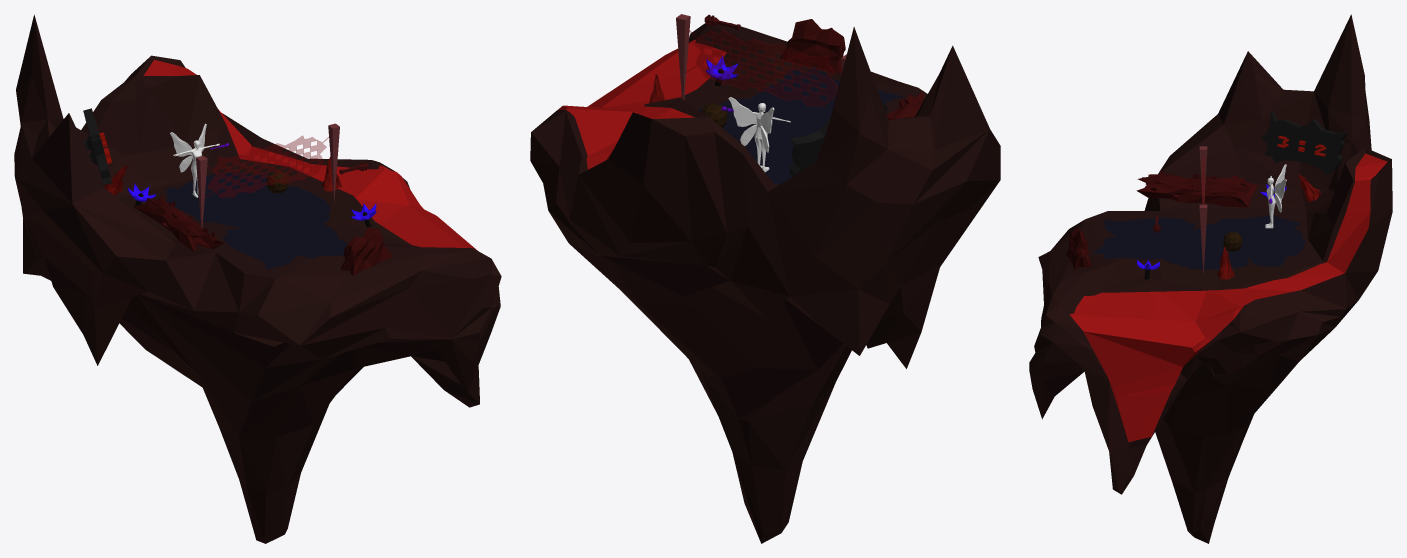
File: Underworld.fbx
3 views of the same model, side by side, from view 1: azimuth 30°, elevation 25°; view 2: azimuth 150°, elevation 25°; view 3: azimuth 270°, elevation 25° (orthographic). The views are drawn at different scales.
Visible parts, largest first — view 1: Ground, Field, Lava, Net, Bench, Rock, Scoreboard, NetStand; view 2: Ground, Lava, Field, Net, Rock, Scoreboard, Wings, NetStand, Bench; view 3: Ground, Lava, Field, Scoreboard, Bench, Rock, NetStand.
Boxes of the visible parts, left/top/right/bottom form: Ground: left=14, top=14, right=501, bottom=543; Field: left=166, top=172, right=348, bottom=269; Lava: left=143, top=60, right=477, bottom=250; Net: left=205, top=135, right=332, bottom=197; Bench: left=133, top=195, right=223, bottom=251; Rock: left=340, top=226, right=393, bottom=276; Scoreboard: left=83, top=108, right=112, bottom=185; NetStand: left=196, top=123, right=339, bottom=227; Ground: left=530, top=23, right=1000, bottom=543; Lava: left=558, top=39, right=726, bottom=169; Field: left=698, top=66, right=903, bottom=184; Net: left=685, top=28, right=841, bottom=106; Rock: left=780, top=19, right=845, bottom=72; Scoreboard: left=789, top=102, right=887, bottom=176; Wings: left=728, top=97, right=774, bottom=152; NetStand: left=676, top=14, right=846, bottom=99; Bench: left=887, top=91, right=924, bottom=120; Ground: left=1029, top=14, right=1392, bottom=543; Lava: left=1069, top=153, right=1387, bottom=442; Field: left=1092, top=215, right=1305, bottom=269; Scoreboard: left=1261, top=111, right=1348, bottom=175; Bench: left=1136, top=171, right=1257, bottom=207; Rock: left=1065, top=228, right=1091, bottom=269; NetStand: left=1199, top=146, right=1207, bottom=276.
Bounding box in the file's own units: 1191 × 1619 × 1154.
